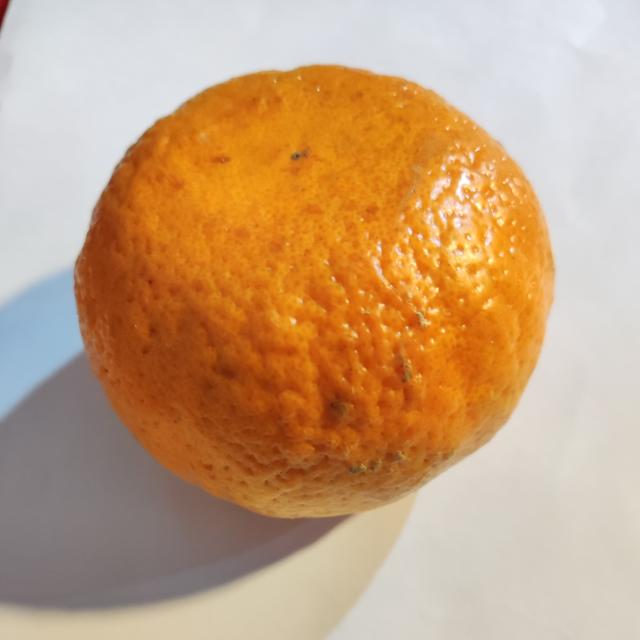orange: (76, 66, 553, 517)
